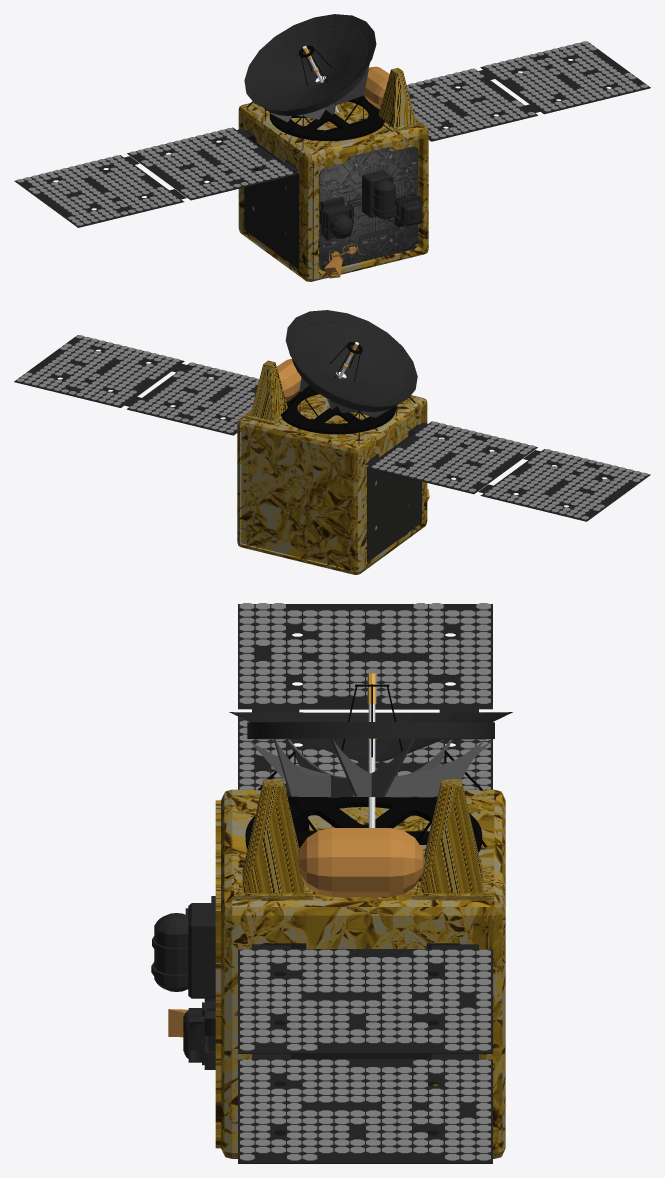
File: hope-probe.glb
3 renders of one model, top to bottom at view 1: azimuth 30°, elevation 25°; view 2: azimuth 150°, elevation 25°; view 3: azimuth 270°, elevation 25°, orthographic. The views are drawn at different scales.
Parts seen in each view (by area): view 1: FLAP_L, FLAP_R, MAIN, Disc, BACK_PLATE, SIDING_A_1, dish_under, Ears, EMIRS, EMUS_1, EXI, Tube (+3 smaller); view 2: MAIN, FLAP_L, FLAP_R, Disc, SIDING_A_1, dish_under, Ears, Tube, TANK, Extrude_6; view 3: FLAP_R, FLAP_L, MAIN, Ears, TANK, Extrude_6, EMIRS, Disc, Tube, dish_under, EXI, SIDING_A (+1 smaller).
Boxes of the visible parts, bbox=[...] form: FLAP_L: bbox=[14, 127, 299, 227]; FLAP_R: bbox=[406, 41, 650, 141]; MAIN: bbox=[238, 101, 428, 281]; Disc: bbox=[244, 14, 376, 110]; BACK_PLATE: bbox=[319, 146, 418, 270]; SIDING_A_1: bbox=[244, 131, 299, 269]; dish_under: bbox=[269, 96, 384, 140]; Ears: bbox=[378, 68, 421, 132]; EMIRS: bbox=[362, 169, 396, 219]; EMUS_1: bbox=[319, 197, 353, 241]; EXI: bbox=[394, 193, 421, 227]; Tube: bbox=[263, 25, 369, 115]; MAIN: bbox=[237, 394, 427, 574]; FLAP_L: bbox=[365, 421, 650, 521]; FLAP_R: bbox=[14, 335, 259, 435]; Disc: bbox=[285, 310, 417, 406]; SIDING_A_1: bbox=[367, 424, 421, 562]; dish_under: bbox=[280, 385, 395, 434]; Ears: bbox=[245, 360, 287, 424]; Tube: bbox=[292, 321, 398, 411]; TANK: bbox=[277, 359, 303, 401]; Extrude_6: bbox=[299, 375, 401, 417]; FLAP_R: bbox=[238, 944, 492, 1163]; FLAP_L: bbox=[238, 603, 492, 789]; MAIN: bbox=[215, 789, 505, 1158]; Ears: bbox=[234, 779, 491, 899]; TANK: bbox=[298, 828, 425, 896]; Extrude_6: bbox=[248, 738, 492, 797]; EMIRS: bbox=[151, 903, 215, 998]; Disc: bbox=[229, 712, 512, 761]; Tube: bbox=[247, 722, 494, 739]; dish_under: bbox=[245, 796, 482, 881]; EXI: bbox=[183, 997, 215, 1069]; SIDING_A: bbox=[266, 943, 459, 1135].
Size of the model in its own units: 9.3 by 3.3 by 2.54.
11 materials, 3 textured.
